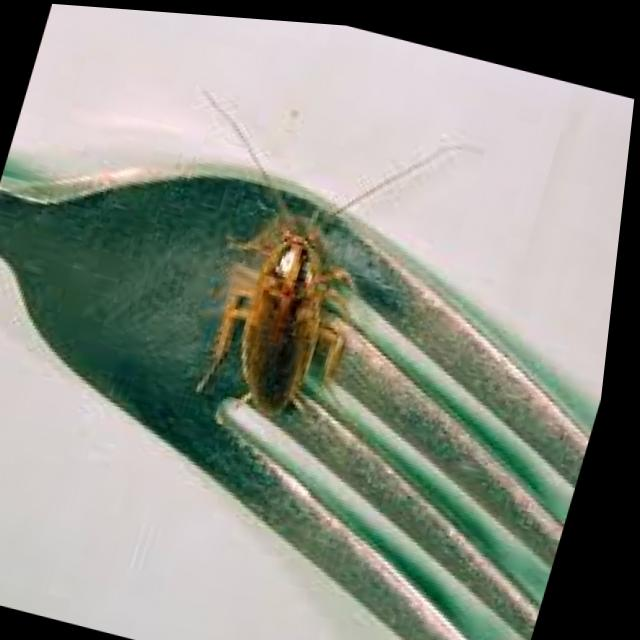Cockroach: (113, 59, 476, 466)
